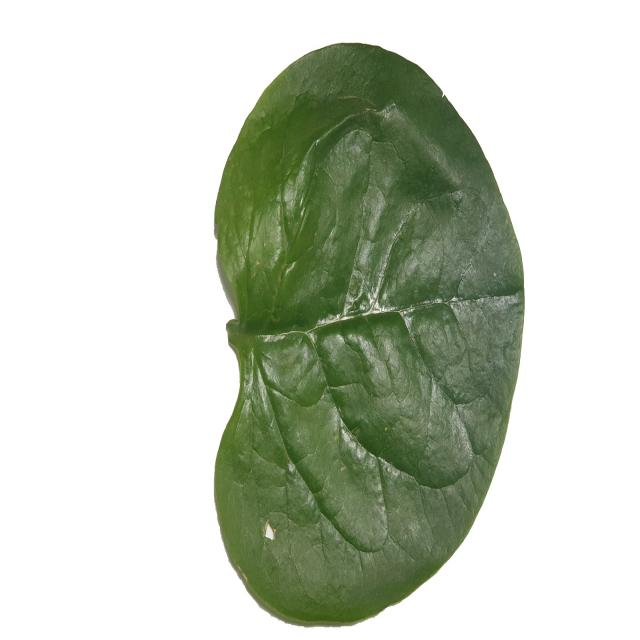Medicinal-Basale: (213, 40, 525, 628)
